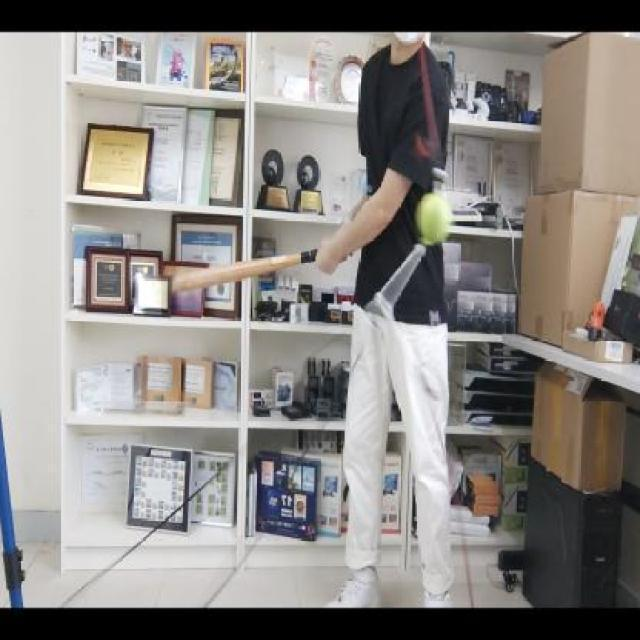ball: (416, 193, 454, 245)
bat: (174, 246, 322, 288)
